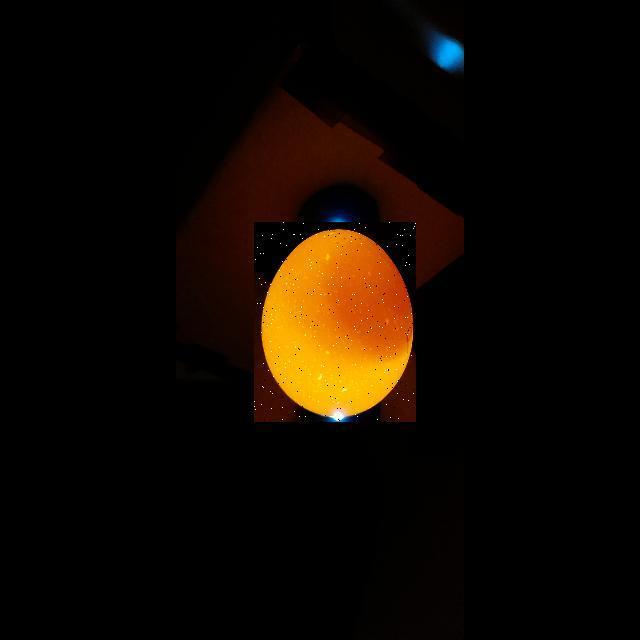Fertile: (254, 222, 416, 422)
